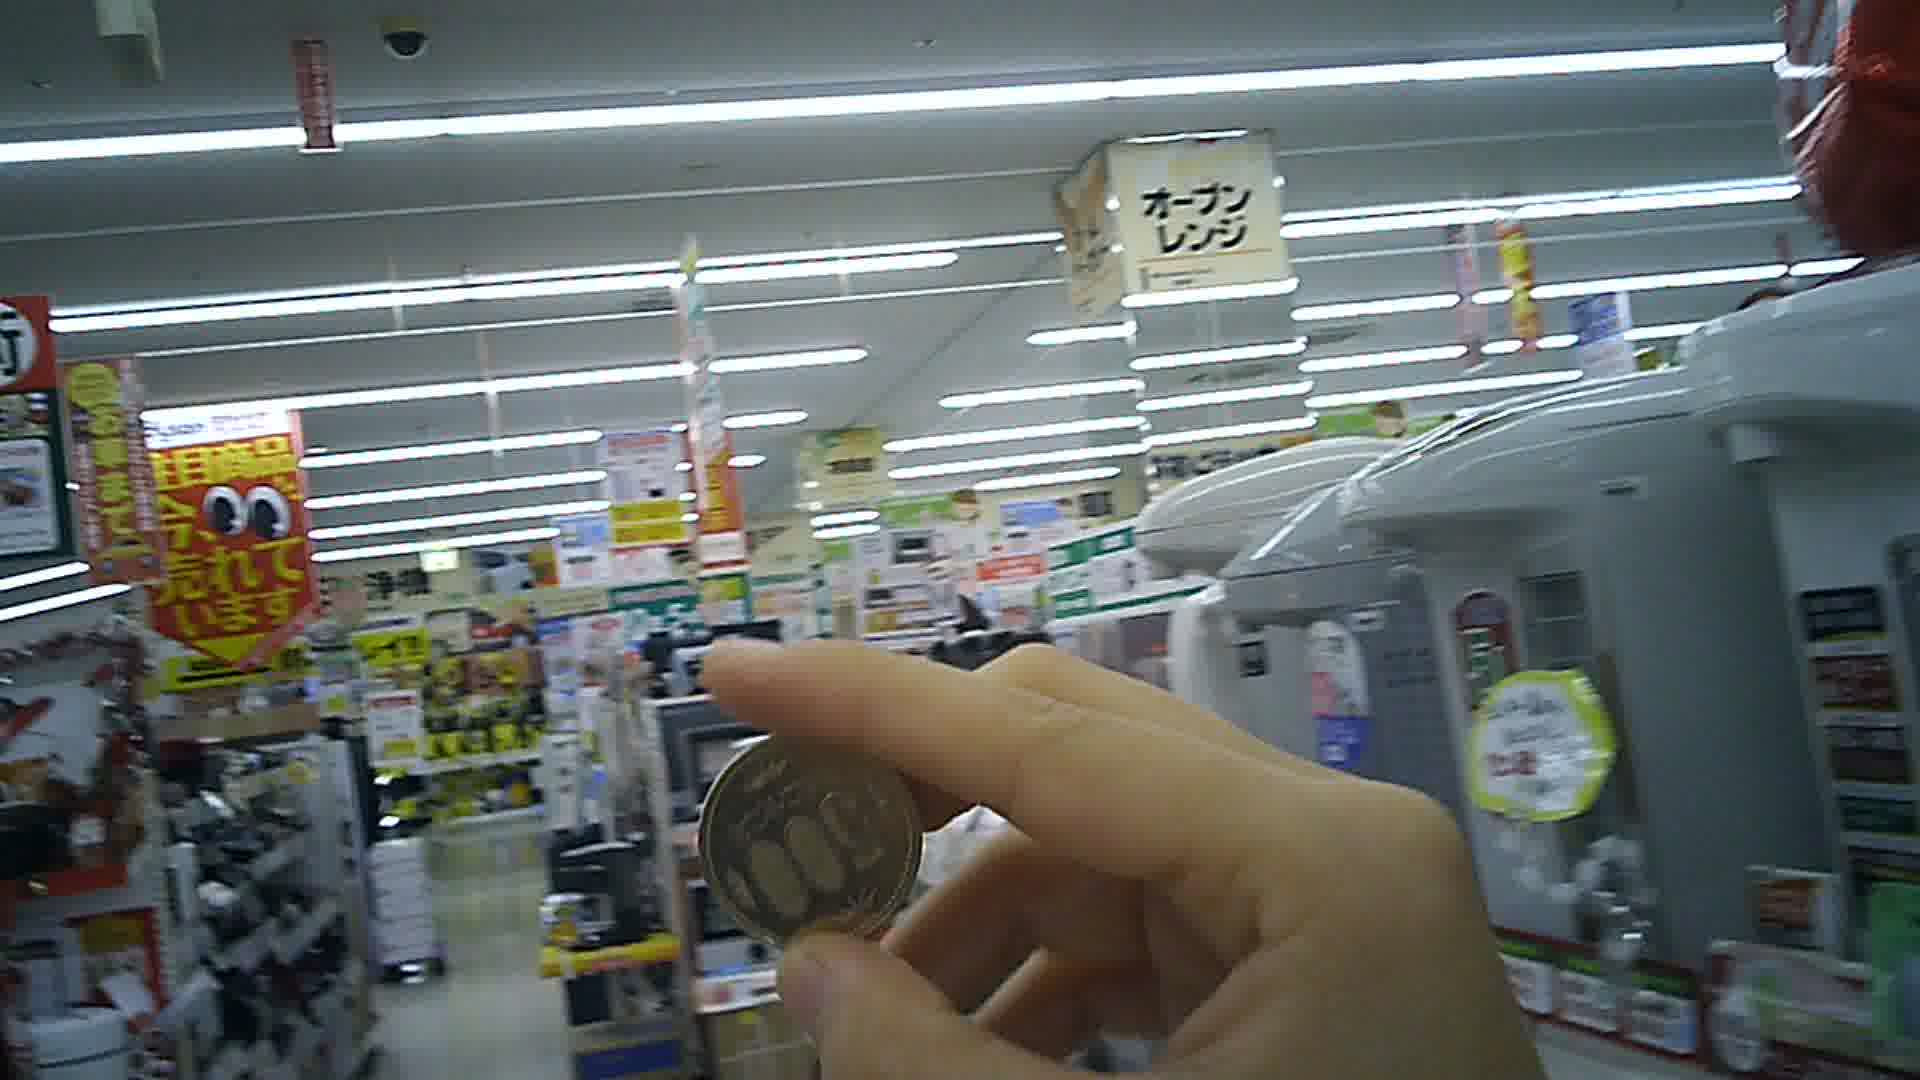500 Yen: (696, 723, 926, 942)
